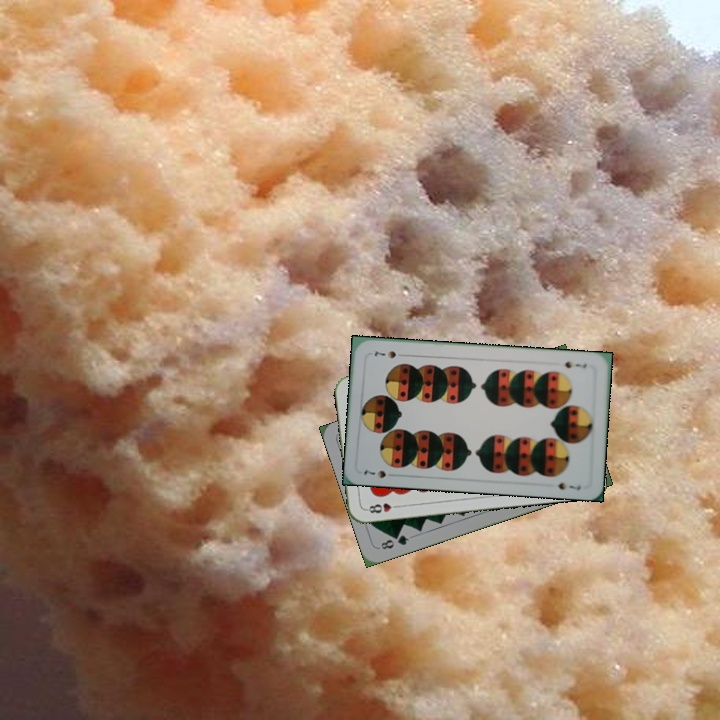G8: (376, 531, 412, 552)
H8: (362, 499, 403, 515)
S7: (360, 466, 388, 481), (561, 357, 589, 371)
